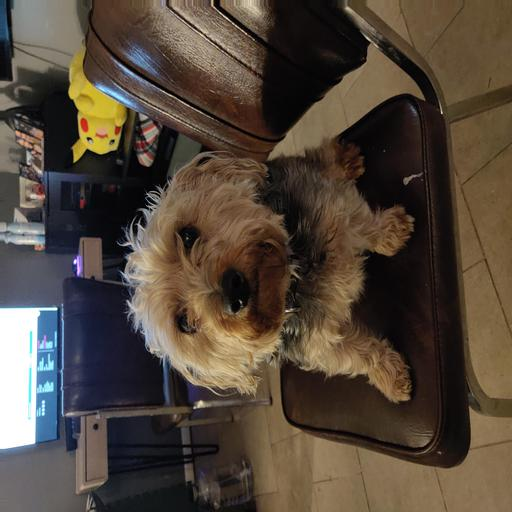dog: (122, 142, 387, 407)
